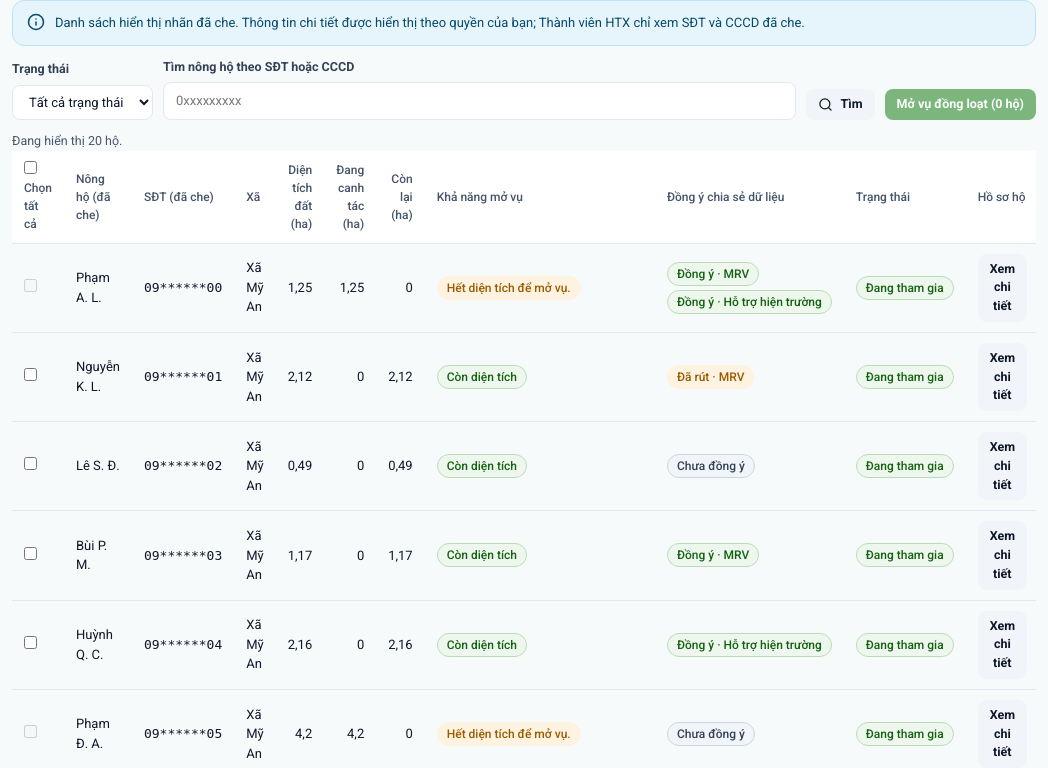
Test: HouseholdsPanel: mở vụ đồng loạt (AH-68) › Thành viên HTX chọn được hộ còn diện tích; hộ hết diện tích không chọn được; Chọn tất cả bỏ qua hộ đó
expect the button "Mở vụ đồng loạt (0 hộ)" is disabled: met, box [885,89,1036,120]
Click the checkbox labelled "Chọn tất cả" at (30, 167), box [24,160,37,174]
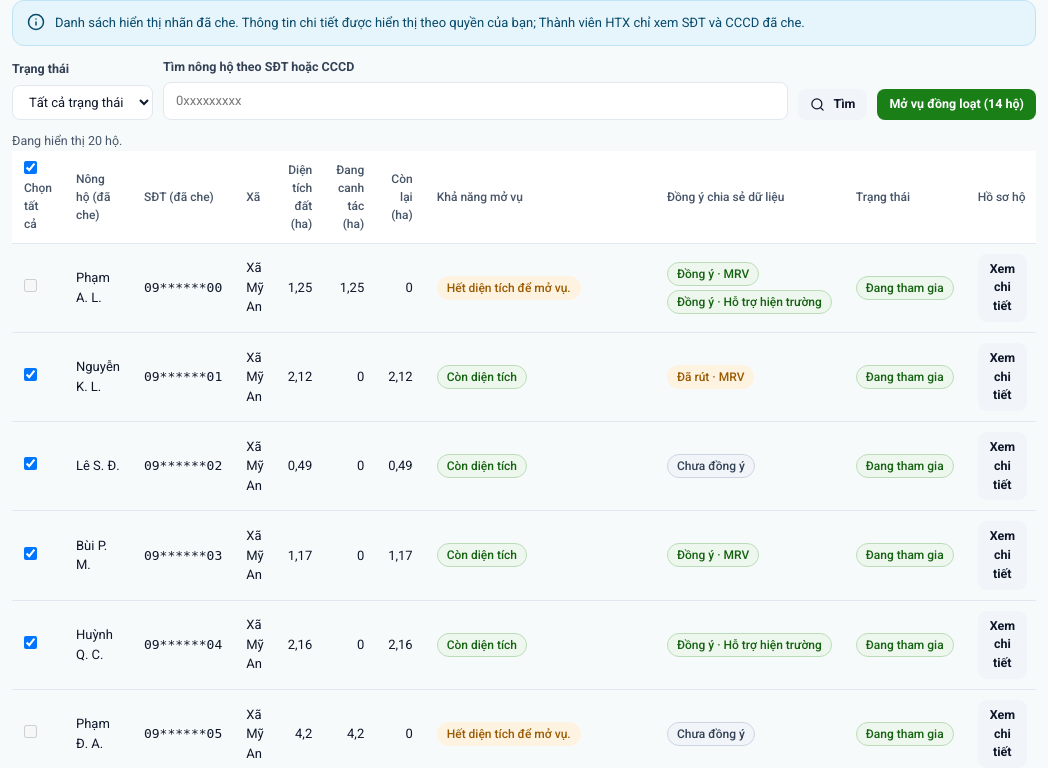
expect the checkbox named "để mở vụ" is not checked: met, box [24,279,37,292]
expect the checkbox named "để mở vụ" is checked: met, box [24,368,37,381]
